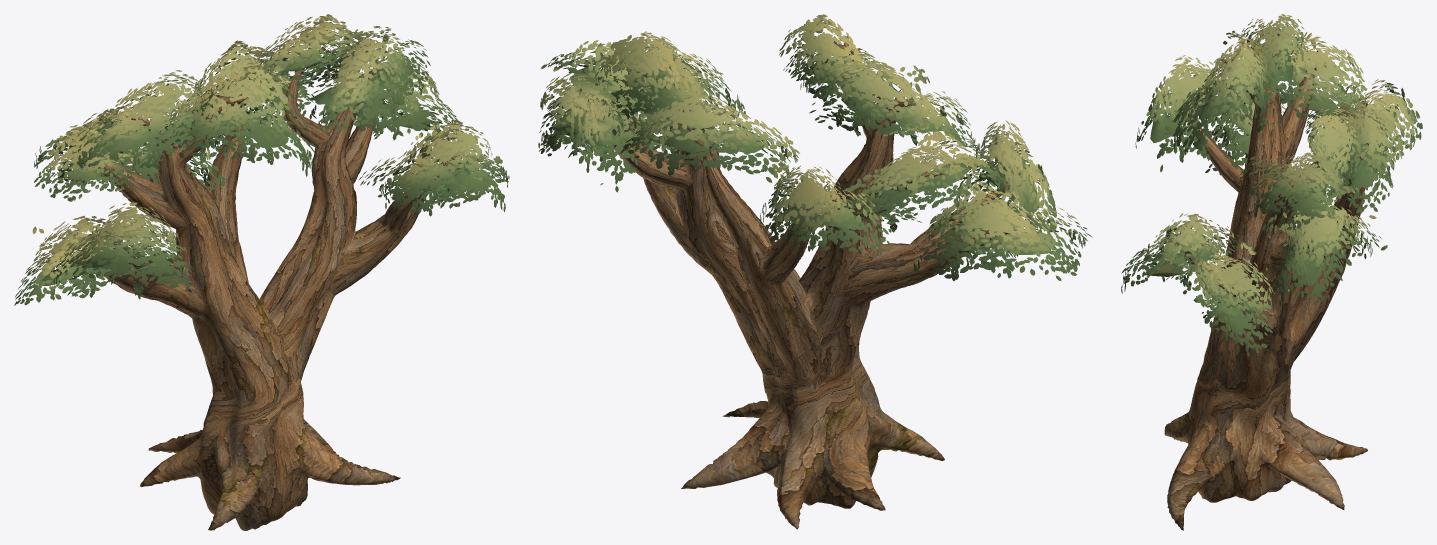
The model's file is longbough-living.glb.
3 views of the same model, side by side, from view 1: azimuth 30°, elevation 25°; view 2: azimuth 150°, elevation 25°; view 3: azimuth 270°, elevation 25° (orthographic). The views are drawn at different scales.
Parts seen in each view (by area): view 1: living-wood, crown-foliage; view 2: crown-foliage, living-wood; view 3: crown-foliage, living-wood.
Boxes of the visible parts, box(x1,y1,x2,y2) form: living-wood: box(56, 46, 462, 530); crown-foliage: box(14, 14, 509, 305); crown-foliage: box(538, 14, 1092, 281); living-wood: box(576, 36, 1017, 529); crown-foliage: box(1121, 14, 1422, 356); living-wood: box(1164, 34, 1367, 530).
Bounding box in the file's own units: 17.07 × 14.77 × 8.86.
Materials: 2 (1 with a texture image).
